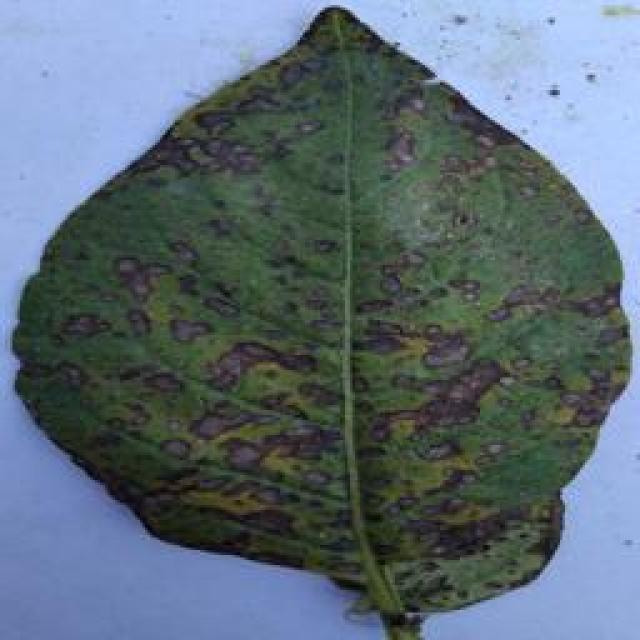Potato_Early_Blight: (15, 12, 632, 616)
